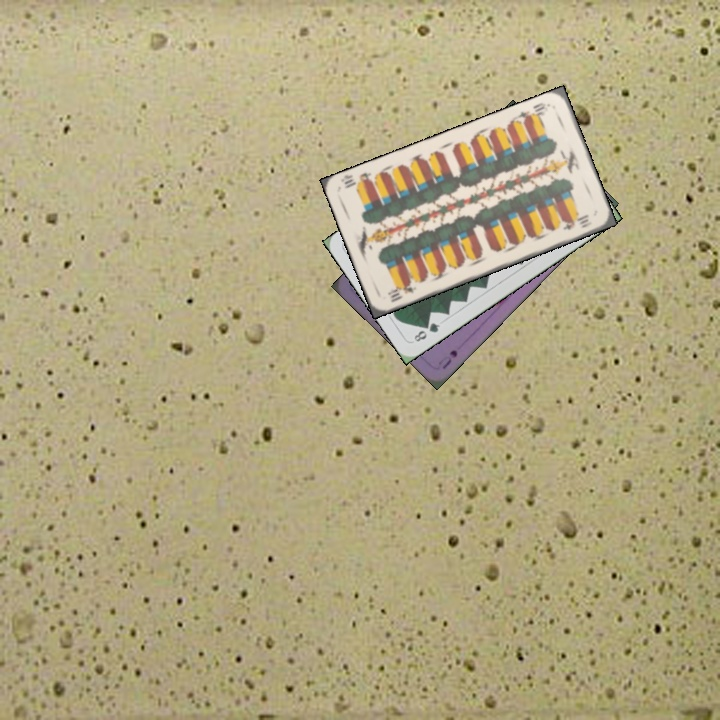E10: (514, 98, 553, 126), (384, 278, 419, 305)
G8: (410, 318, 443, 345)
SU: (434, 346, 460, 372)
